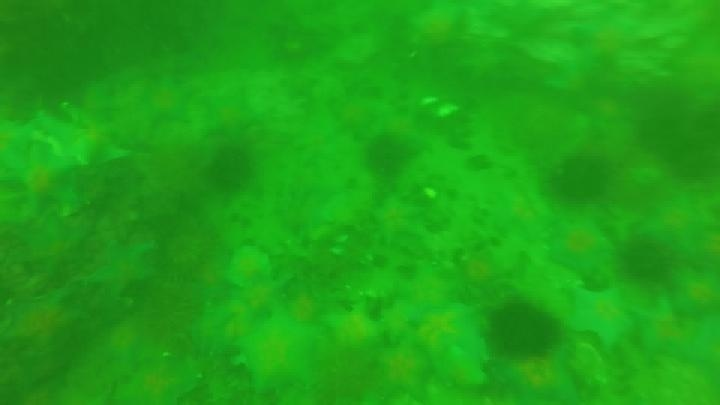echinus: (634, 88, 718, 182), (232, 316, 322, 396), (151, 213, 220, 283), (486, 301, 561, 361), (137, 276, 204, 343), (312, 345, 379, 405), (549, 153, 612, 205), (618, 237, 676, 285), (207, 145, 255, 193), (363, 133, 411, 178), (464, 152, 494, 175), (370, 252, 390, 271)
starfish: (402, 296, 494, 379), (232, 316, 321, 397), (629, 299, 716, 371), (7, 289, 88, 356), (488, 349, 583, 405), (9, 145, 83, 215), (638, 194, 715, 259), (85, 241, 158, 305), (193, 295, 266, 356), (565, 287, 634, 351), (369, 345, 436, 405), (112, 359, 199, 405), (547, 220, 612, 279), (324, 303, 390, 357), (490, 187, 553, 241), (201, 87, 263, 140), (137, 79, 194, 133), (407, 5, 470, 52), (371, 194, 427, 245), (669, 269, 719, 321), (100, 322, 149, 369), (236, 278, 287, 321), (224, 246, 273, 289), (192, 259, 238, 304), (458, 250, 507, 292), (284, 284, 330, 327)
